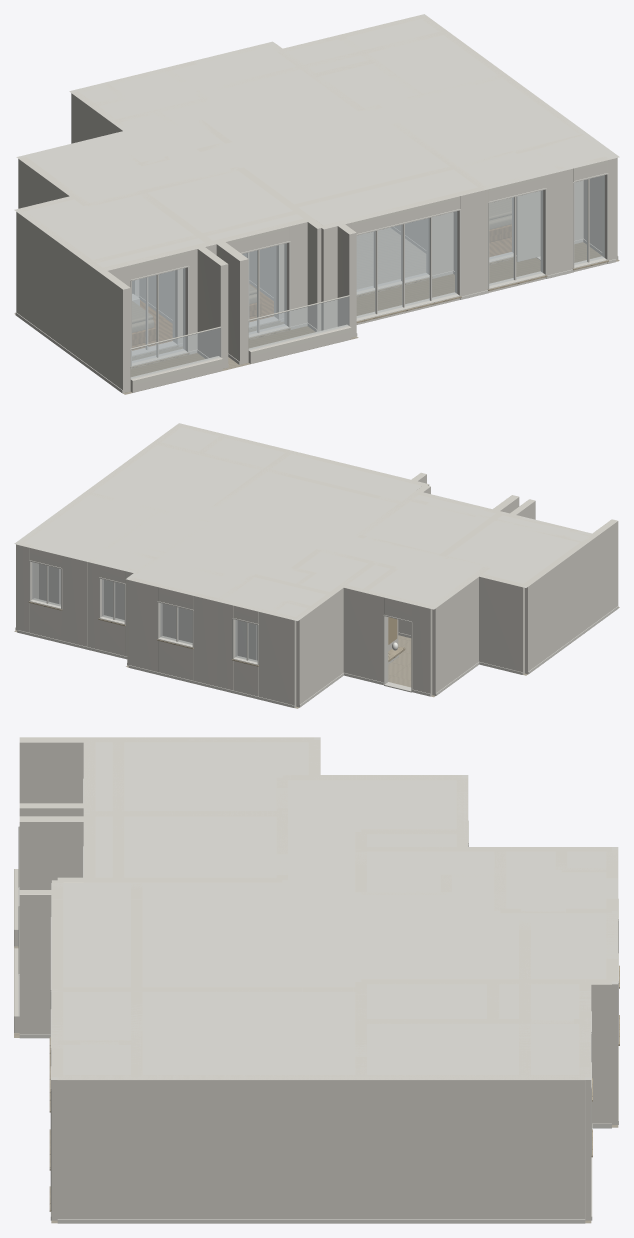
Rendered from acro112a-basic.glb.
3 views of the same model, one above another, from view 1: azimuth 30°, elevation 25°; view 2: azimuth 150°, elevation 25°; view 3: azimuth 270°, elevation 25° (orthographic). The views are drawn at different scales.
Visible parts, largest first — view 1: Indoor ceiling, West bedroom outer wall pier, Living south facade glazing, Master south facade glazing, West bedroom outer glazing glazing, Living balcony threshold glazing, Open balcony shaft west pier, Bedroom center east wall pier, Center balcony glass guard, Center bedroom outer glazing glazing, Master south facade pier.001, West balcony glass guard (+39 smaller); view 2: Indoor ceiling, West bedroom outer wall pier, Entry west wall pier, West notch north pier, Service west wall pier, Entry north wall pier.001, North service facade pier, North kitchen facade pier.001, North dressing facade pier, North kitchen facade pier, Entry north wall pier, North service facade pier.001 (+25 smaller); view 3: Indoor ceiling, East facade pier, West bedroom outer wall pier, Open balcony east return pier, Open balcony shaft east pier, North east step pier, East facade skirting.001, Kitchen bathroom divider pier, North kitchen facade pier.001, Bedroom center east wall pier, Master living divider pier.001, Bedroom dividing wall pier (+8 smaller).
Part boxes in pixels (x1,y1,x2,y2): Indoor ceiling: (14, 14, 619, 268); West bedroom outer wall pier: (16, 210, 130, 393); Living south facade glazing: (357, 211, 456, 318); Master south facade glazing: (489, 190, 542, 285); West bedroom outer glazing glazing: (132, 268, 185, 362); Living balcony threshold glazing: (357, 219, 428, 291); Open balcony shaft west pier: (196, 245, 228, 368); Bedroom center east wall pier: (236, 167, 324, 331); Center balcony glass guard: (249, 296, 349, 350); Center bedroom outer glazing glazing: (242, 243, 286, 334); Master south facade pier.001: (546, 168, 573, 275); West balcony glass guard: (131, 328, 220, 378); Indoor ceiling: (14, 423, 594, 620); West bedroom outer wall pier: (522, 519, 618, 674); Entry west wall pier: (432, 567, 490, 695); West notch north pier: (476, 573, 525, 674); Service west wall pier: (294, 585, 344, 707); Entry north wall pier.001: (342, 584, 386, 682); North service facade pier: (258, 609, 297, 707); North kitchen facade pier.001: (129, 577, 160, 671); North dressing facade pier: (61, 555, 87, 646); North kitchen facade pier: (193, 593, 220, 686); Entry north wall pier: (412, 602, 432, 695); North service facade pier.001: (217, 599, 234, 690); Indoor ceiling: (51, 737, 618, 1079); East facade pier: (57, 1075, 585, 1218); West bedroom outer wall pier: (19, 737, 314, 803); Open balcony east return pier: (19, 890, 57, 1033); Open balcony shaft east pier: (19, 816, 89, 889); North east step pier: (585, 979, 611, 1123); East facade skirting.001: (57, 1219, 585, 1223); Kitchen bathroom divider pier: (361, 979, 584, 984); North kitchen facade pier.001: (606, 958, 618, 1124); Bedroom center east wall pier: (57, 877, 282, 882); Master living divider pier.001: (57, 987, 302, 991); Bedroom dividing wall pier: (90, 811, 282, 816).
Bounding box in the file's own units: 13.88 × 2.72 × 10.35.
Materials: 15 (6 with a texture image).
